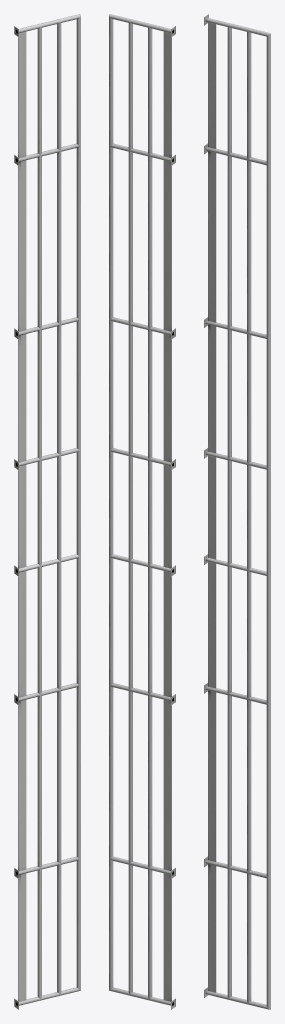
Rendered from props_trainyard_handrail480.glb.
The picture shows the model from 3 angles, left to right: view 1: azimuth 30°, elevation 25°; view 2: azimuth 150°, elevation 25°; view 3: azimuth 330°, elevation 25°; orthographic projection.
Visible parts, largest first — view 1: models/props_trainyard/handrail480; view 2: models/props_trainyard/handrail480; view 3: models/props_trainyard/handrail480.
Part boxes in pixels (x1,y1,x2,y2): models/props_trainyard/handrail480: (14, 14, 80, 1009); models/props_trainyard/handrail480: (109, 14, 175, 1009); models/props_trainyard/handrail480: (204, 14, 270, 1009).
Bounding box in the file's own units: 33 × 480 × 4.
Materials: 1 (1 with a texture image).
